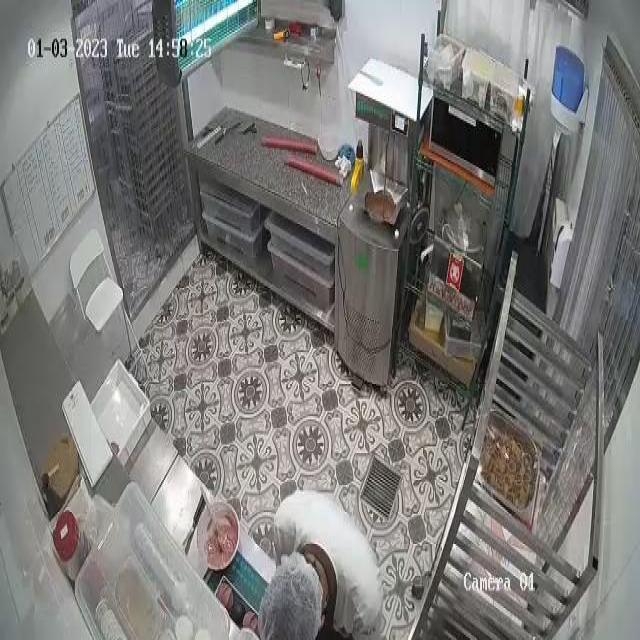hairnet: (261, 549, 327, 640)
